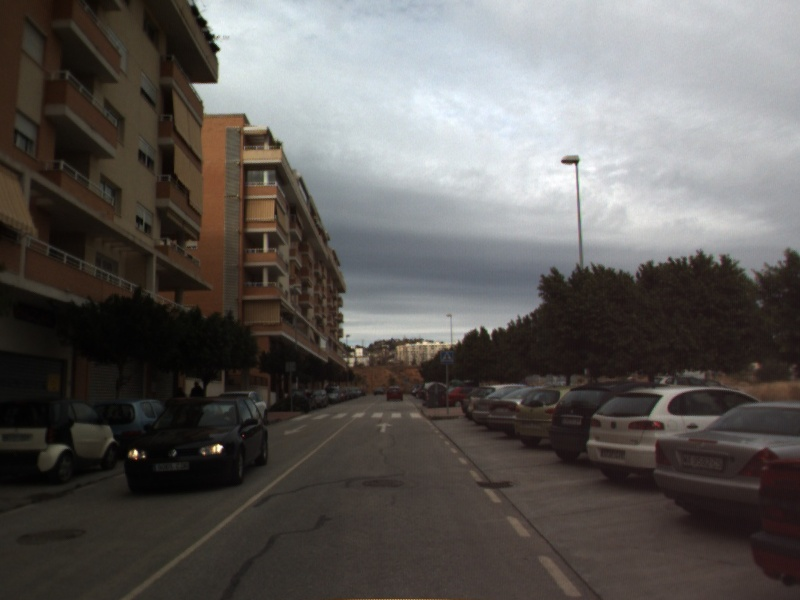STRAIGHT: (374, 420, 395, 434)
